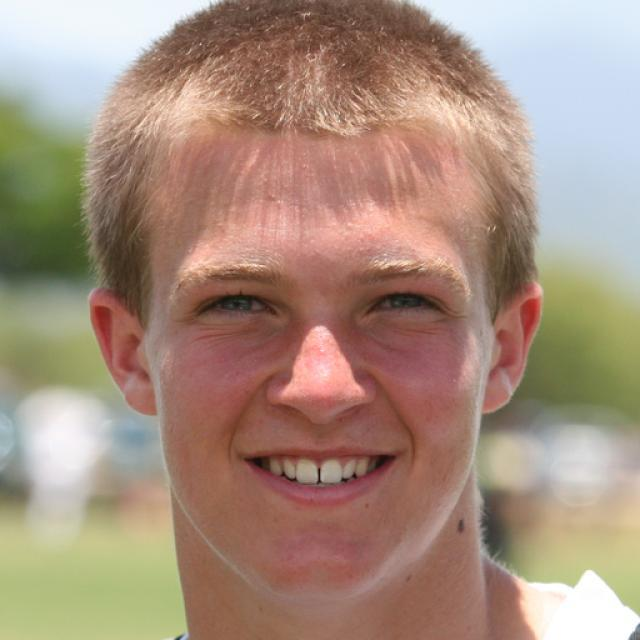happy: (153, 101, 488, 609)
